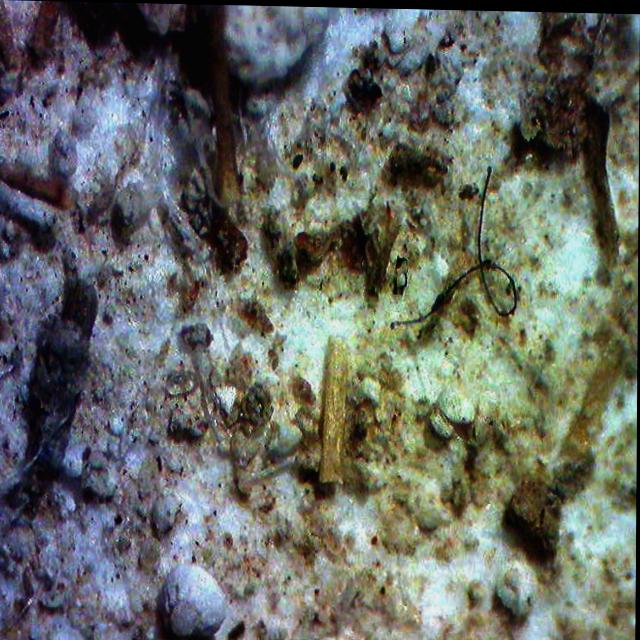microplastic: (389, 163, 517, 326)
